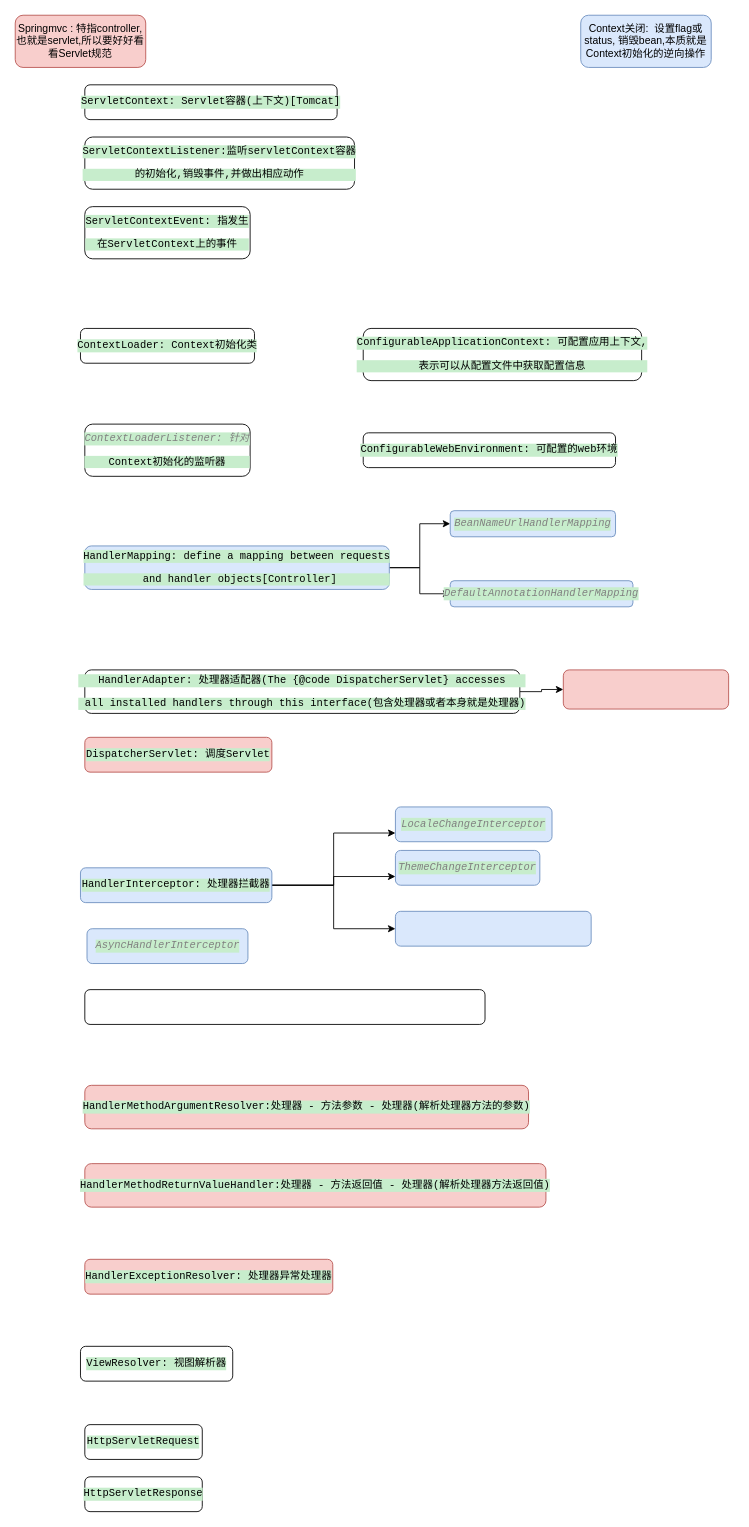
Some shapes in this 749 by 1527 pixel diagram are drawn without their labels. The box of each missing label's shape, as (x1, y1, x2, y2) in pixels:
HandlerExecutionChain: 处理器执行链,包含a handler and any interceptors: (84, 989, 485, 1024)
RequestMappingHandlerAdapter: (562, 669, 729, 709)
UserRoleAuthorizationInterceptor: (395, 910, 591, 946)
